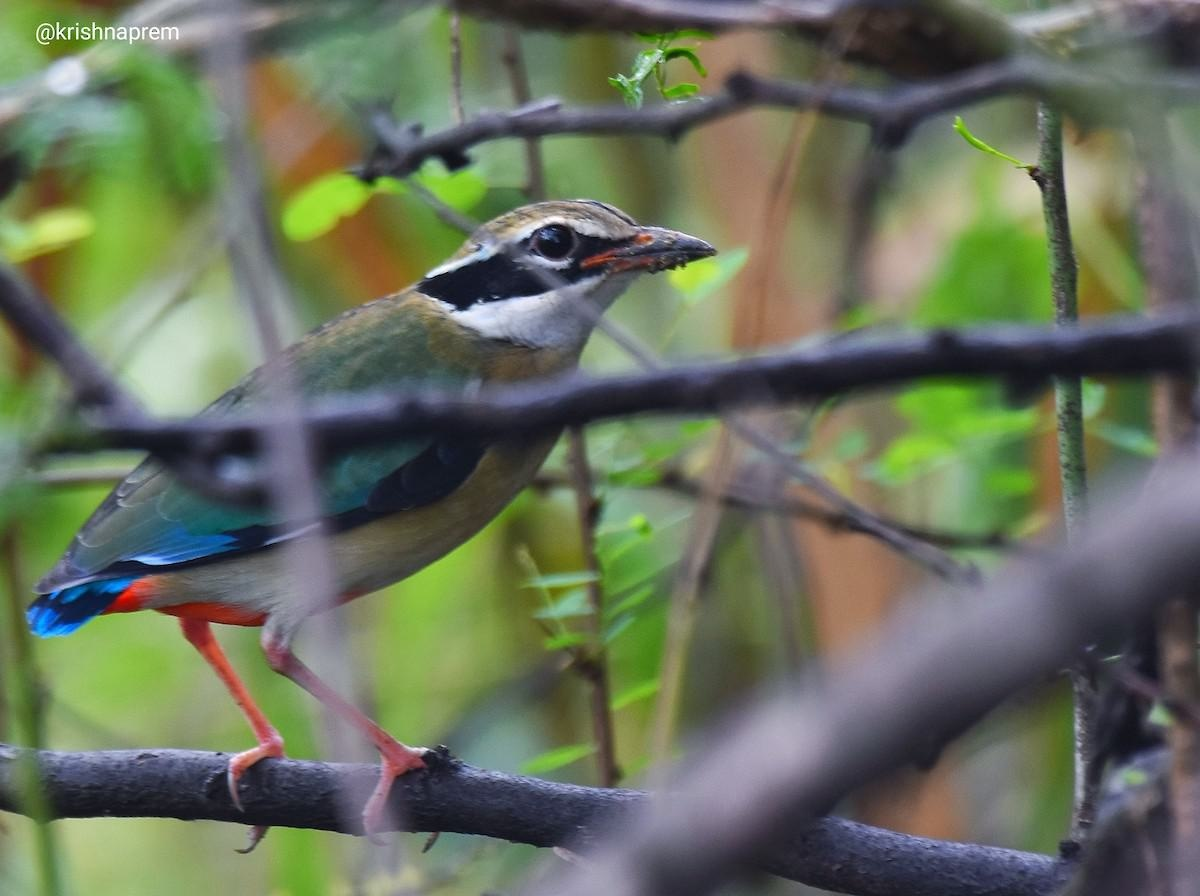pitta: (48, 178, 711, 770)
